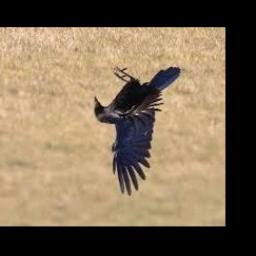Crow: (94, 65, 182, 196)
